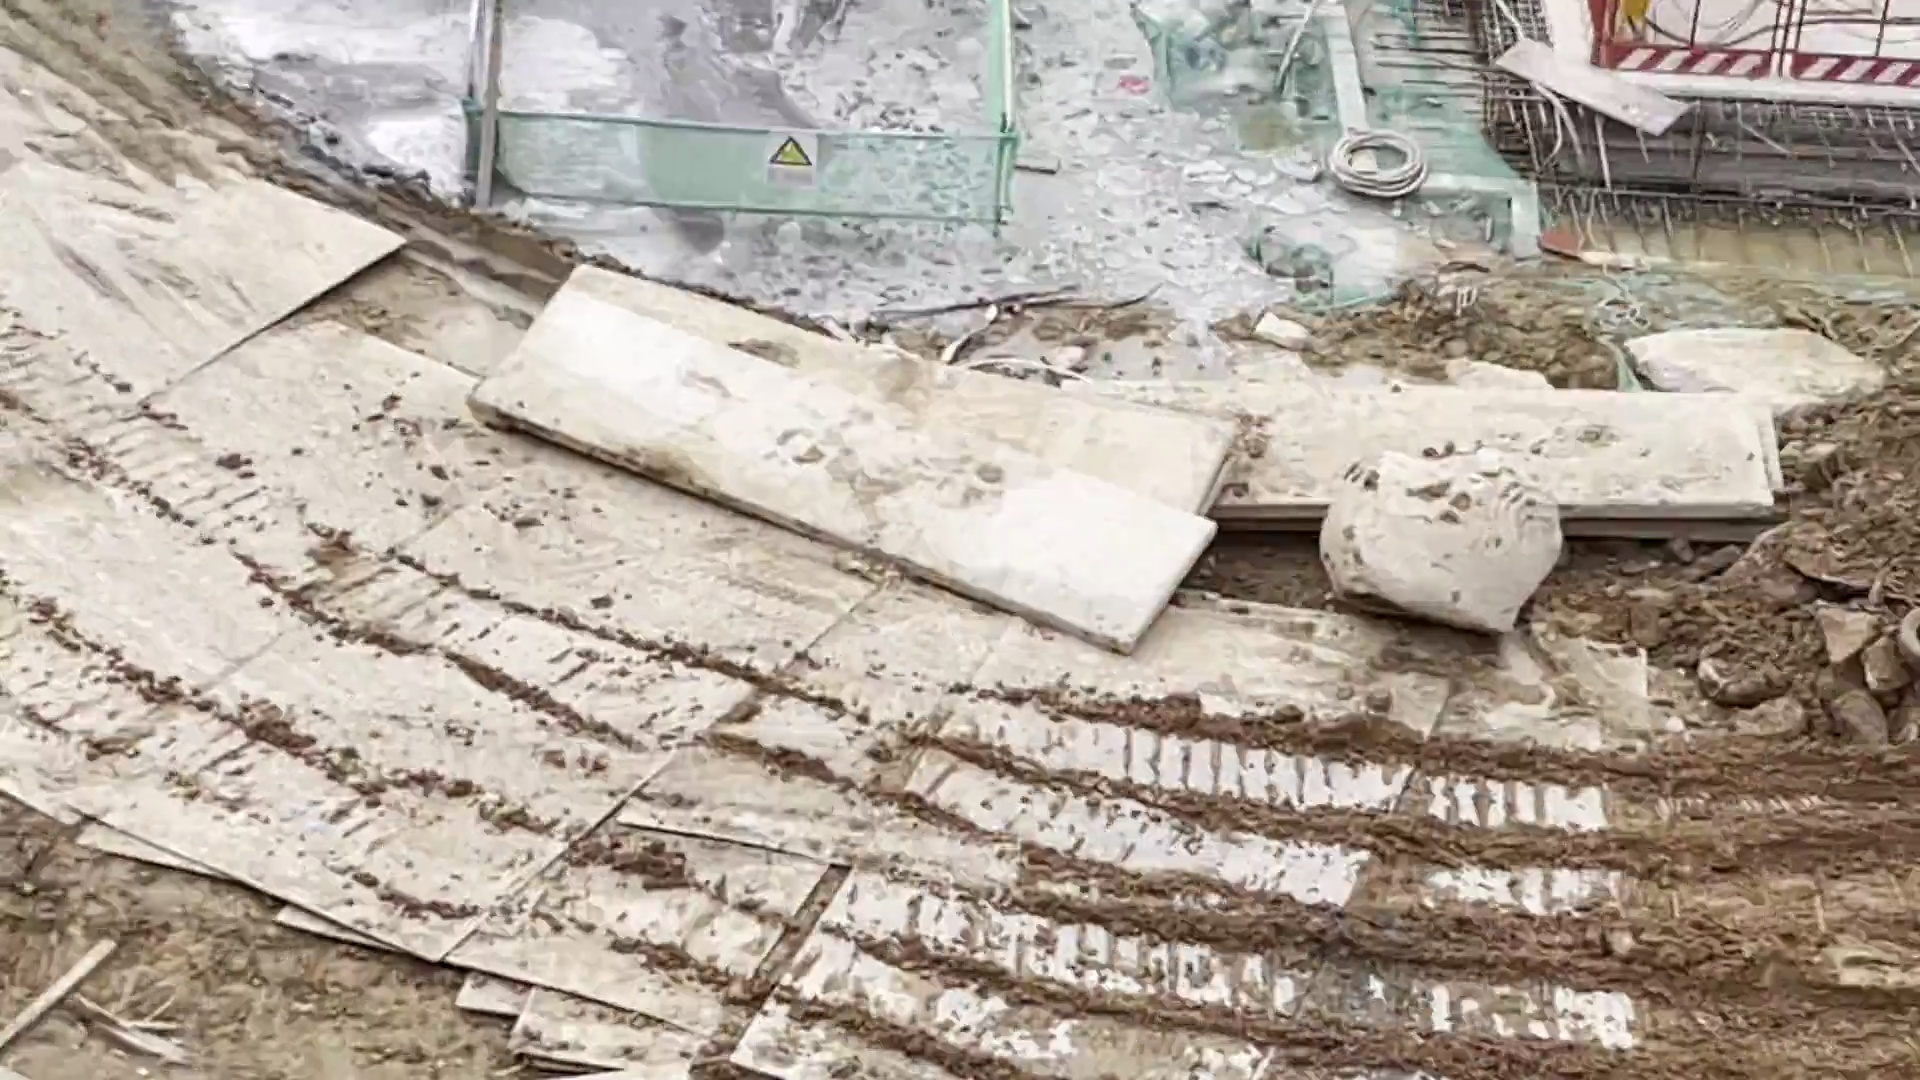fence: (1592, 1, 1920, 96)
slogan: (767, 132, 822, 187)
